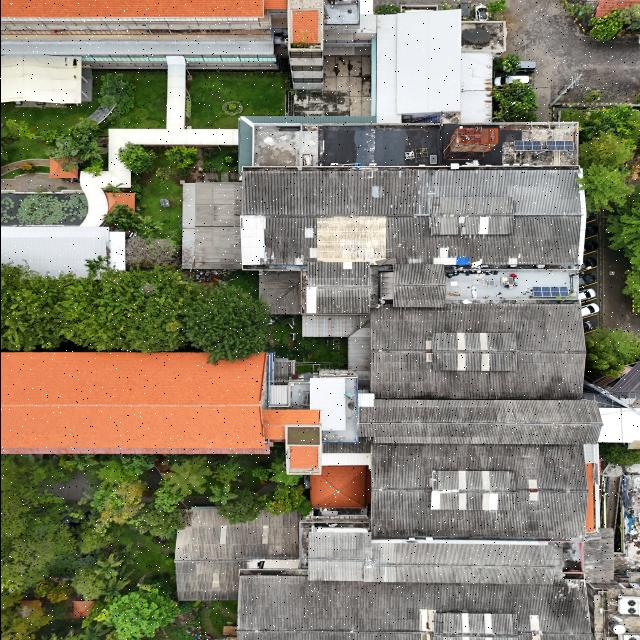Tree: (580, 160, 634, 217), (493, 84, 538, 122), (117, 144, 157, 172), (162, 141, 198, 171), (210, 458, 246, 486), (90, 551, 126, 579), (207, 482, 237, 506)
